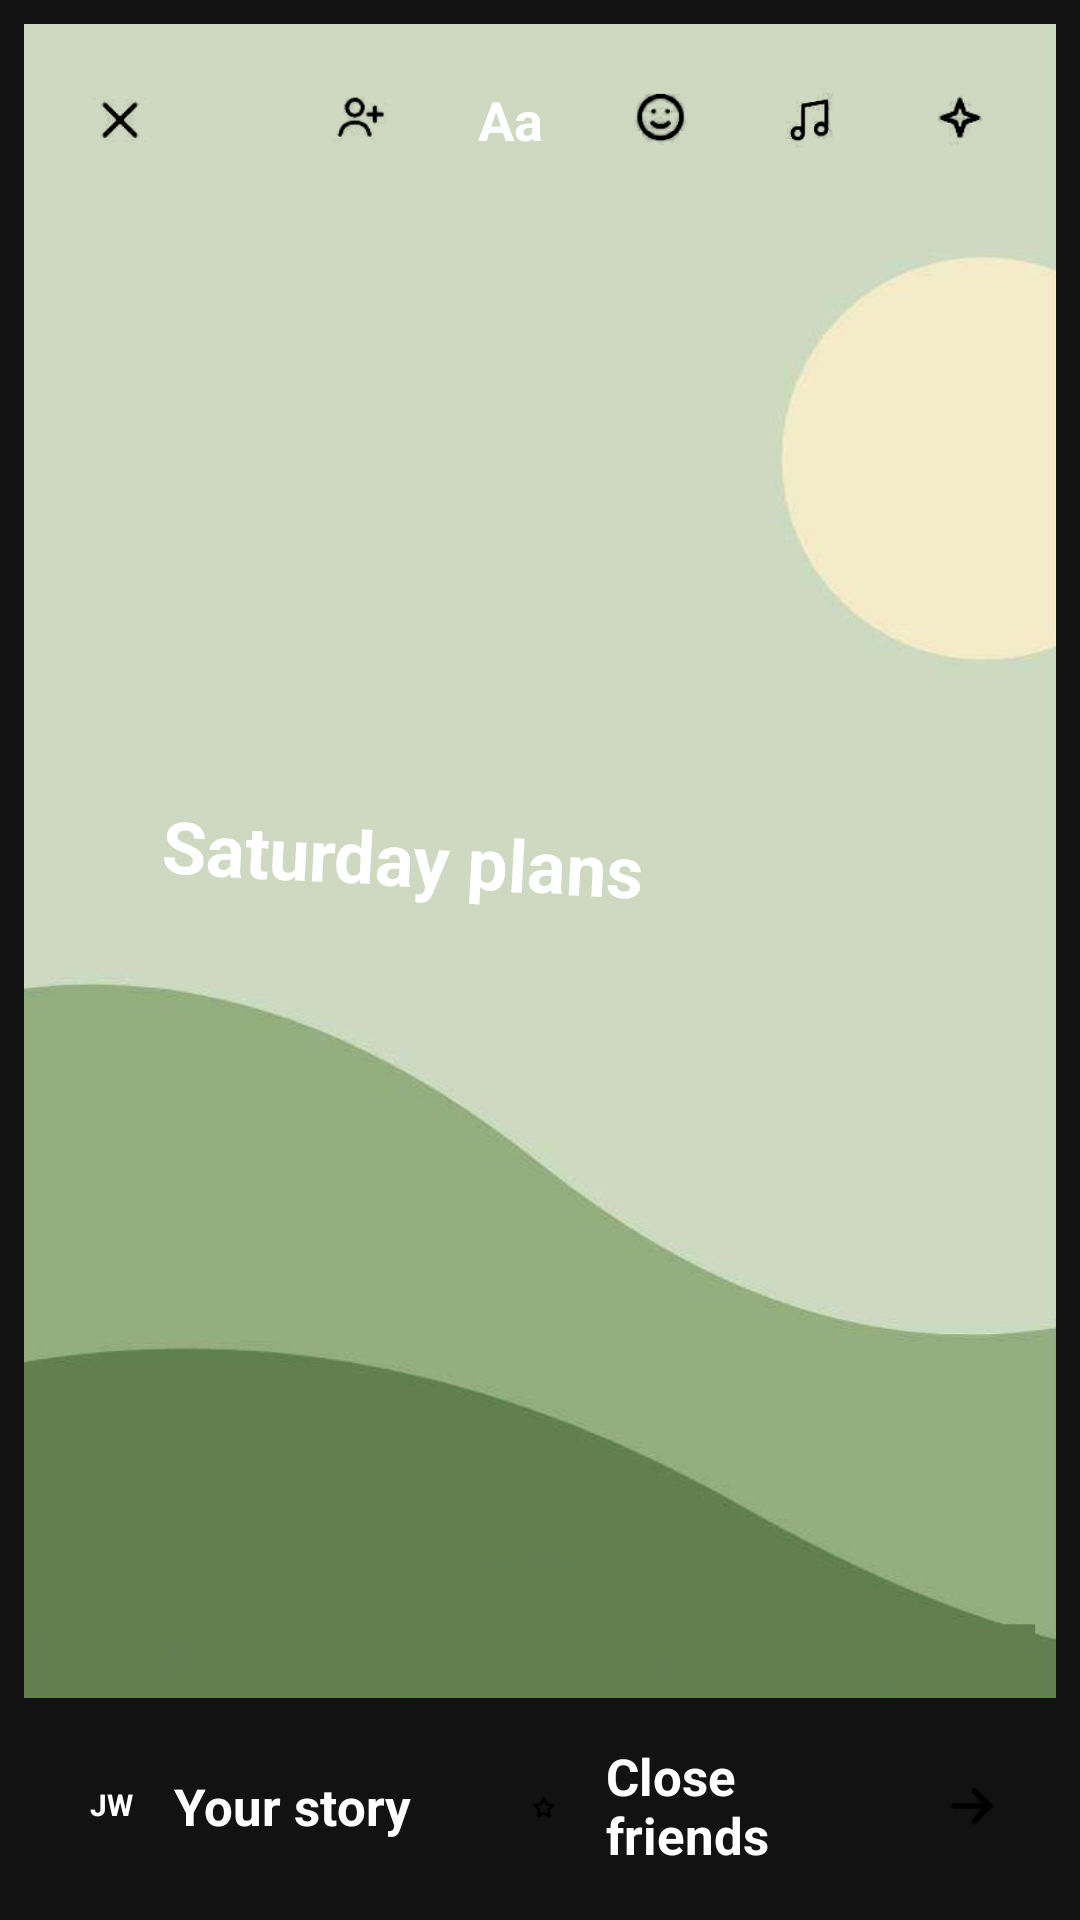

Point at icon controls on the screen. Image size 1080*1920, points as (x=x, y=y).
Close editor: (x=120, y=120)
Effects: (x=960, y=117)
Music: (x=811, y=117)
Stickers: (x=660, y=117)
Tag people: (x=360, y=117)
